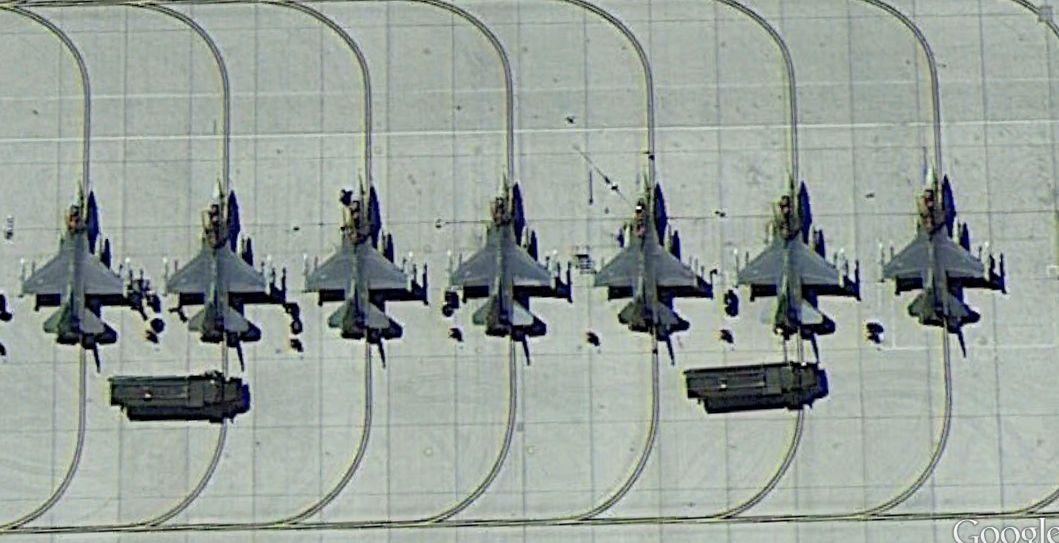F-16: (878, 170, 999, 327), (733, 171, 849, 334), (446, 176, 562, 335), (300, 179, 415, 338), (163, 180, 269, 343), (24, 183, 130, 343), (598, 175, 704, 335)
